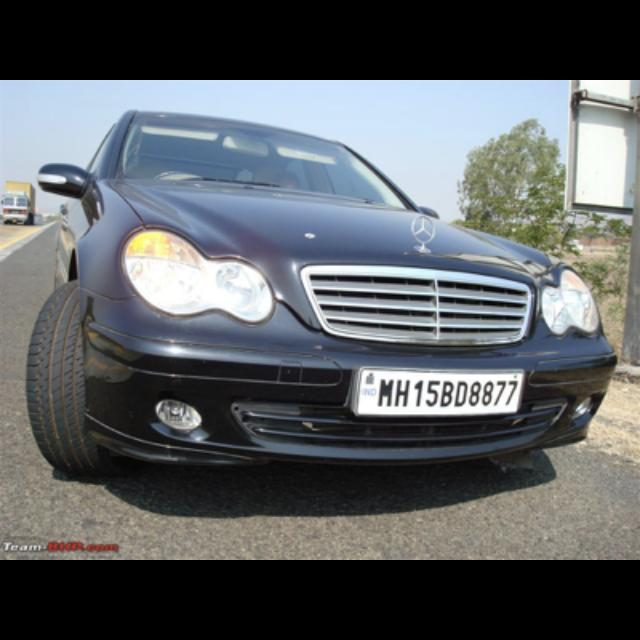carPlate: (358, 369, 523, 415)
